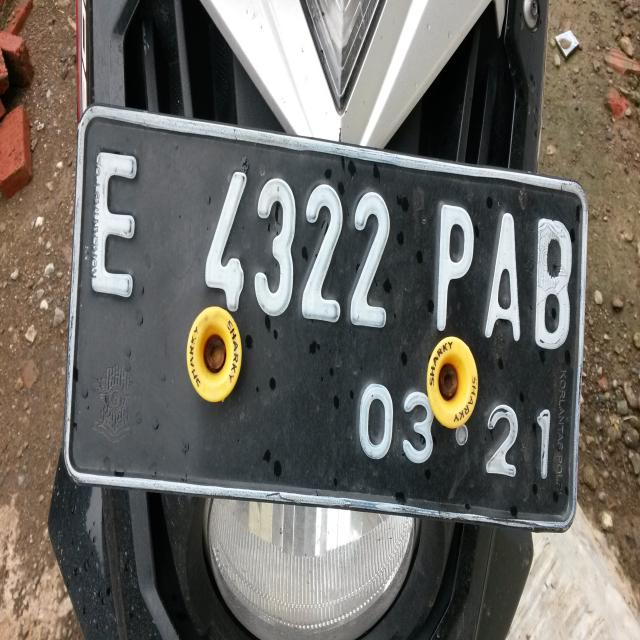plate: (67, 101, 591, 543)
